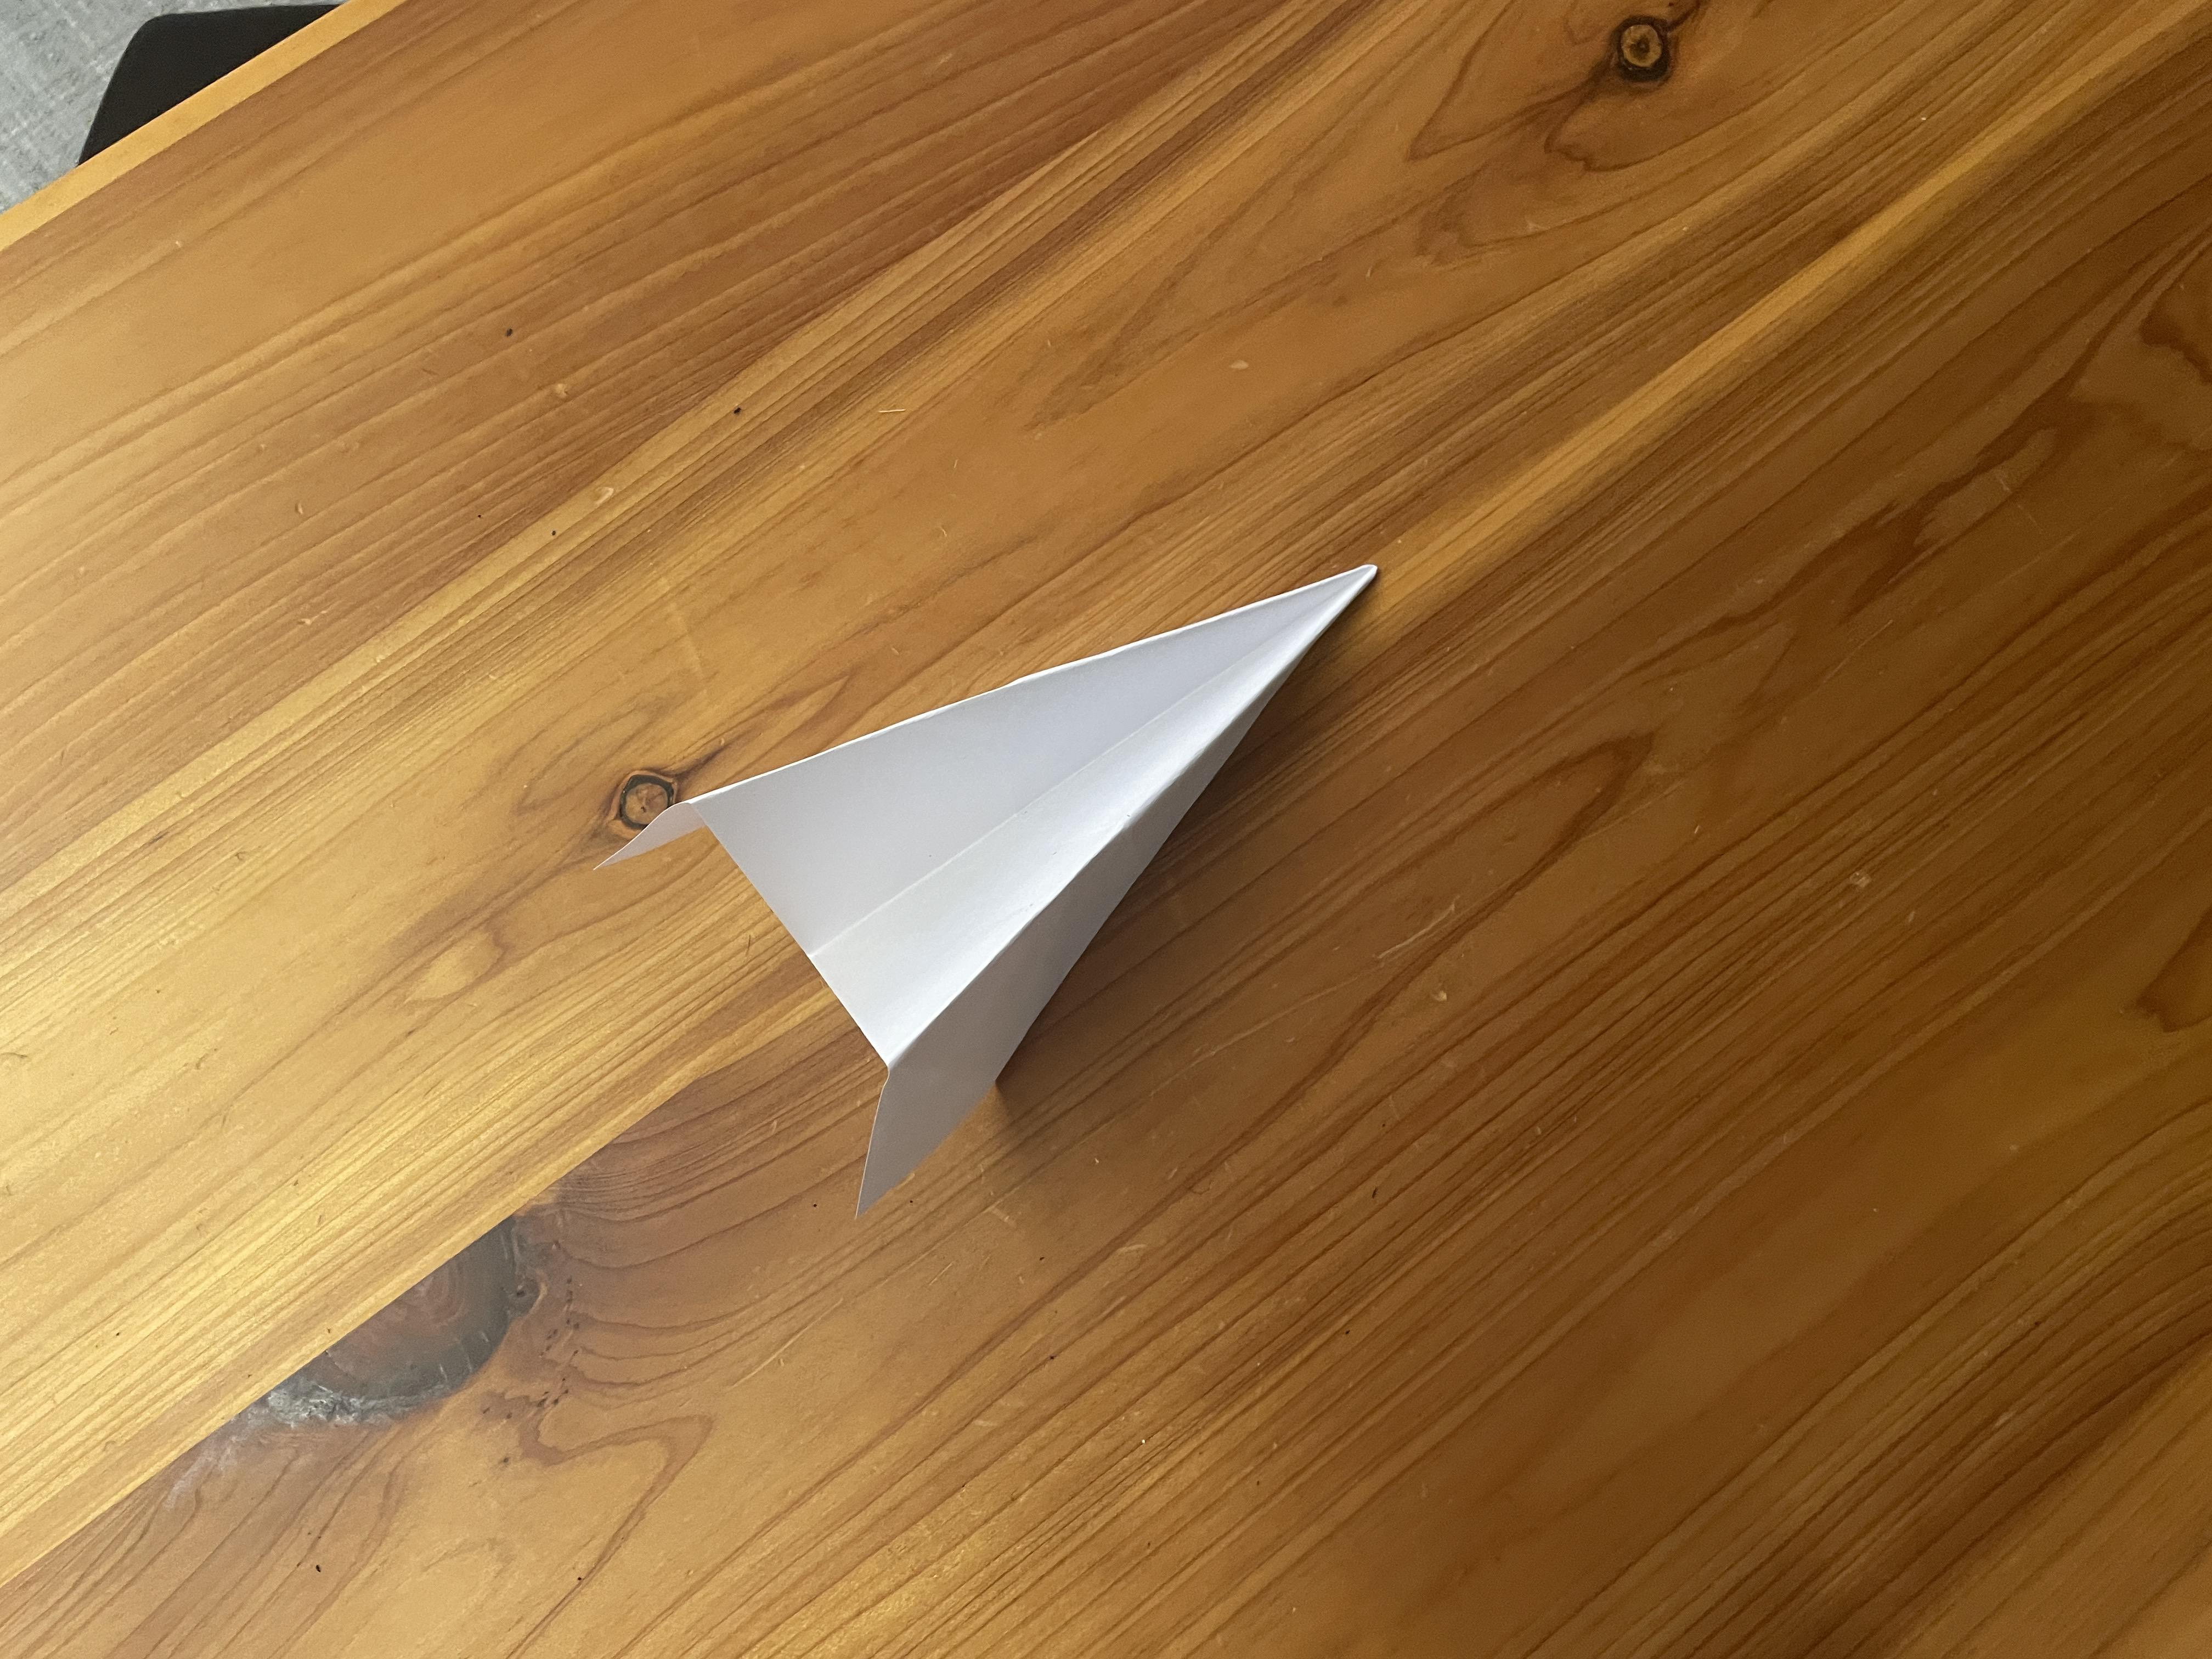shape_3: (533, 497, 1533, 1230)
